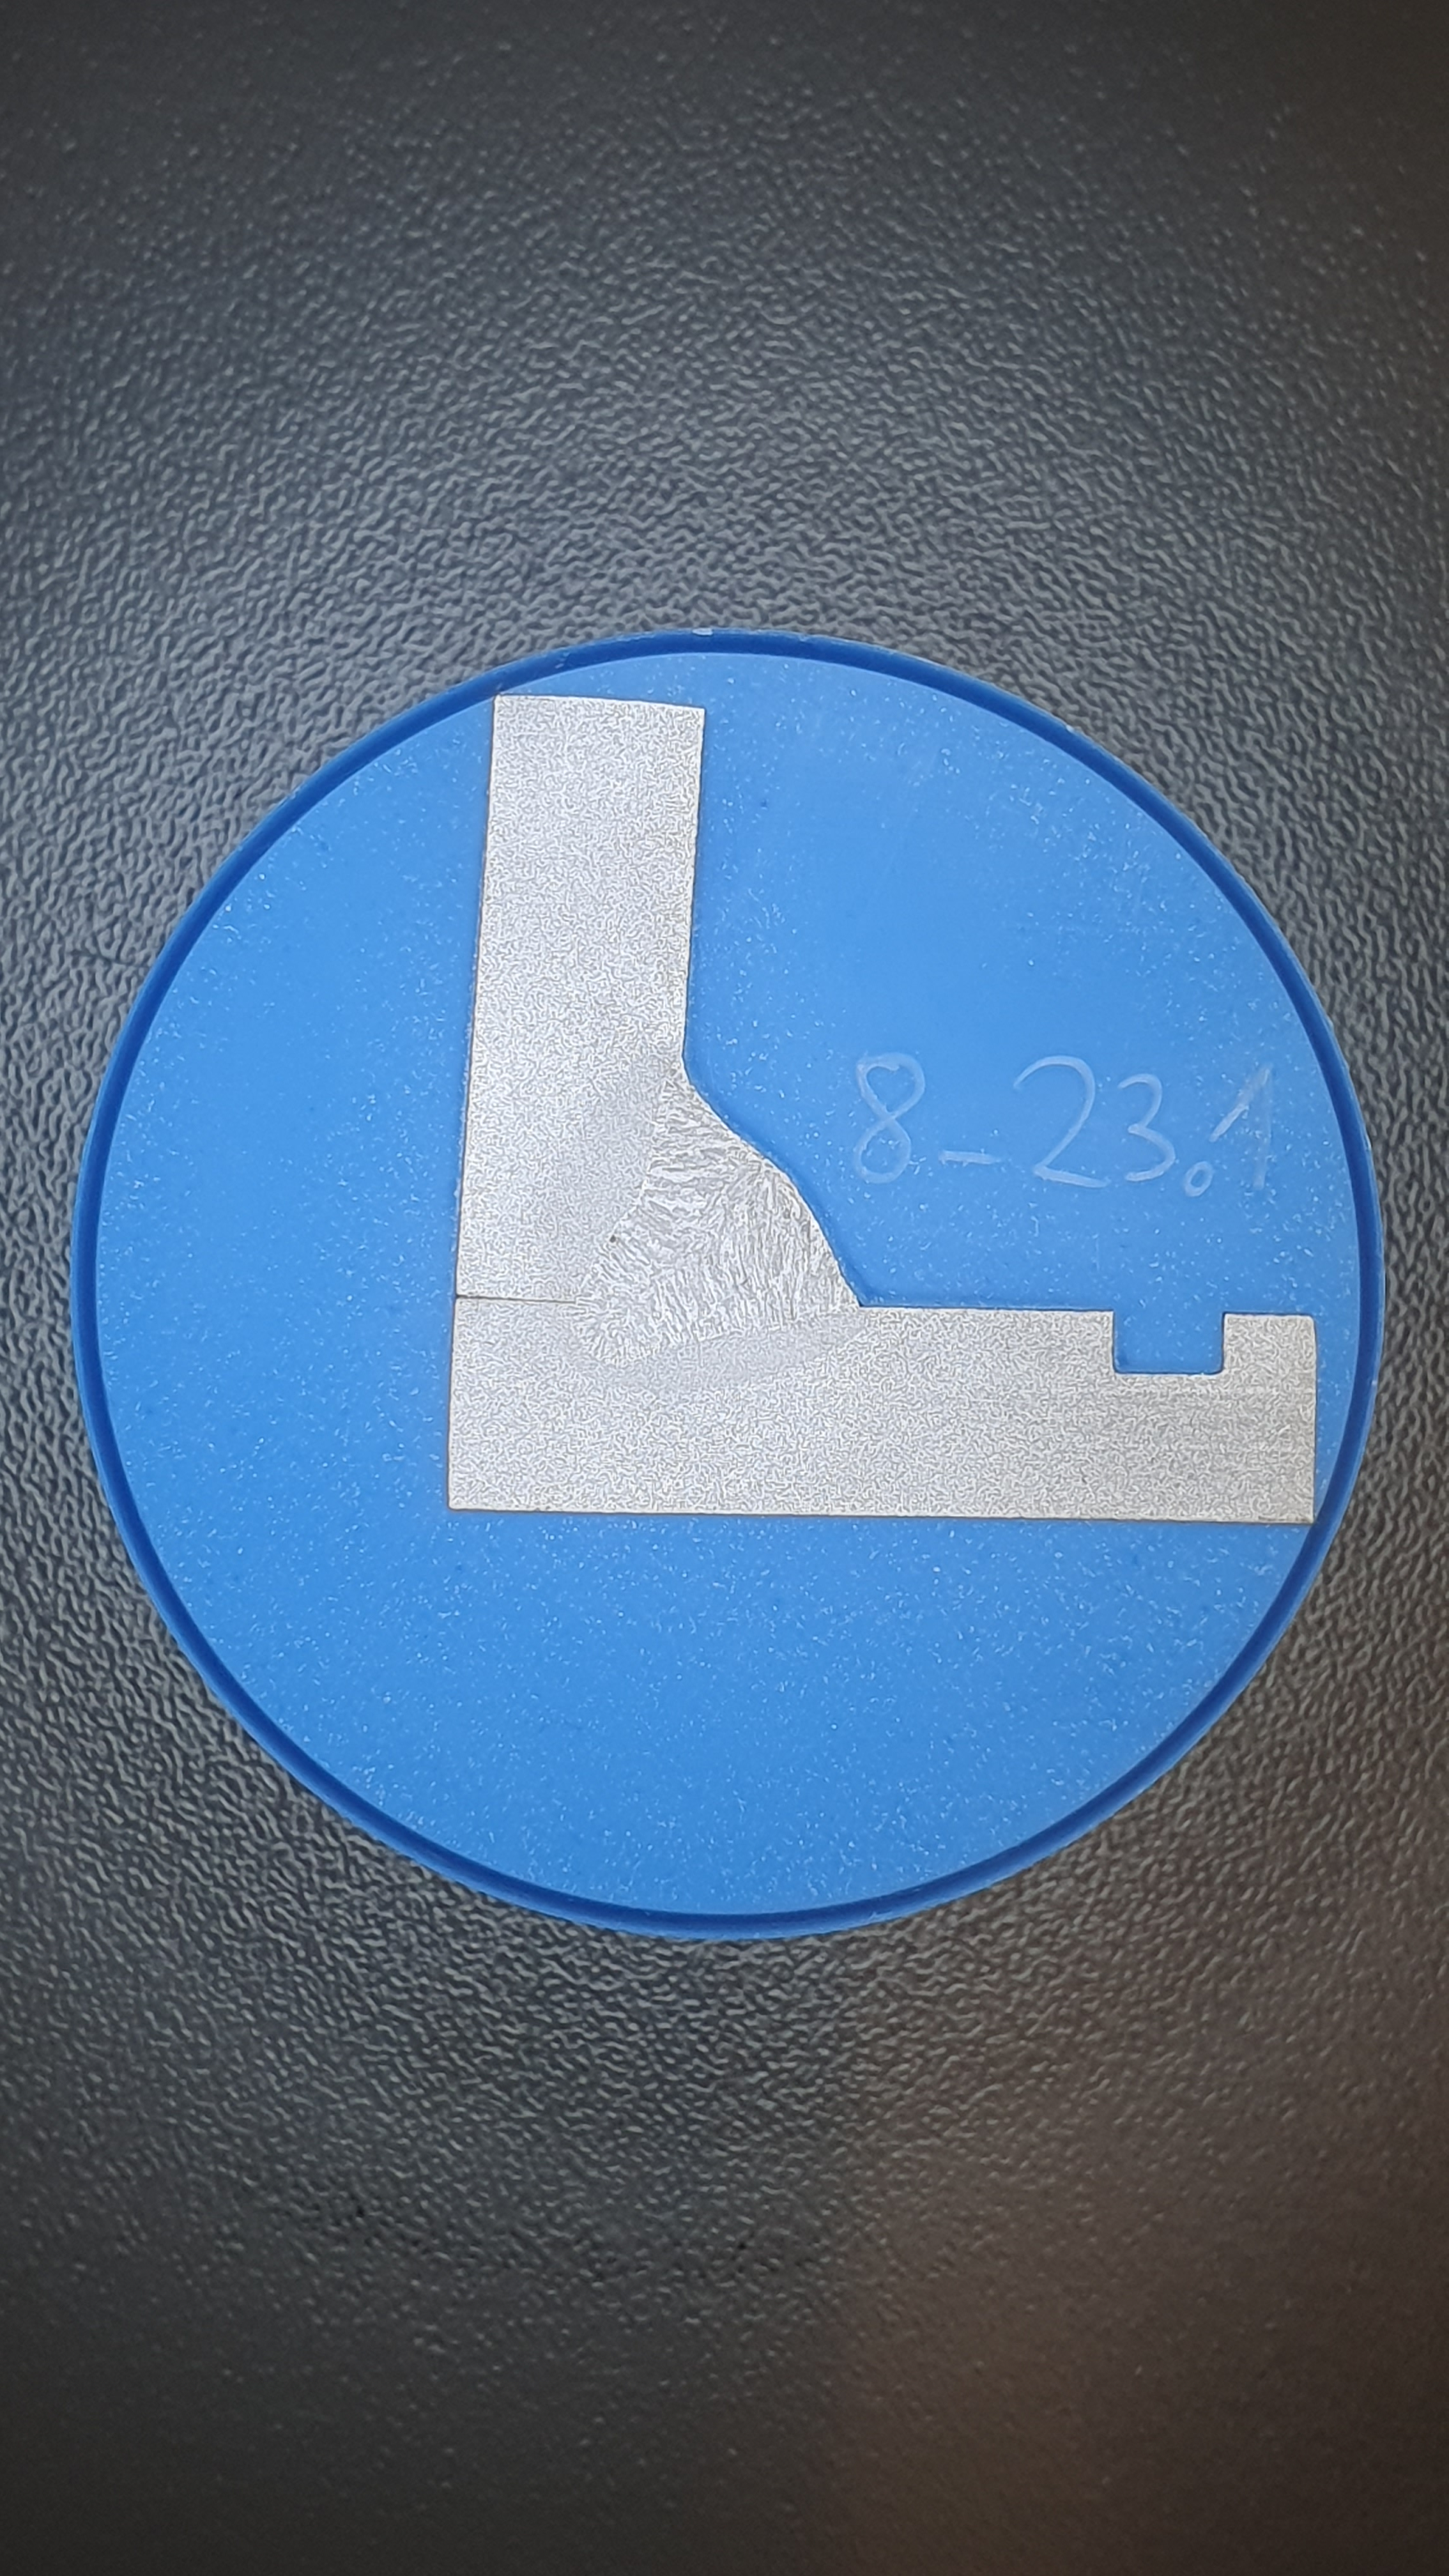Fusion: (570, 1056, 860, 1364)
Hintergrund: (96, 653, 1359, 1914)
Metall: (448, 694, 1316, 1523)
Nebenbereich: (524, 1033, 872, 1394)
